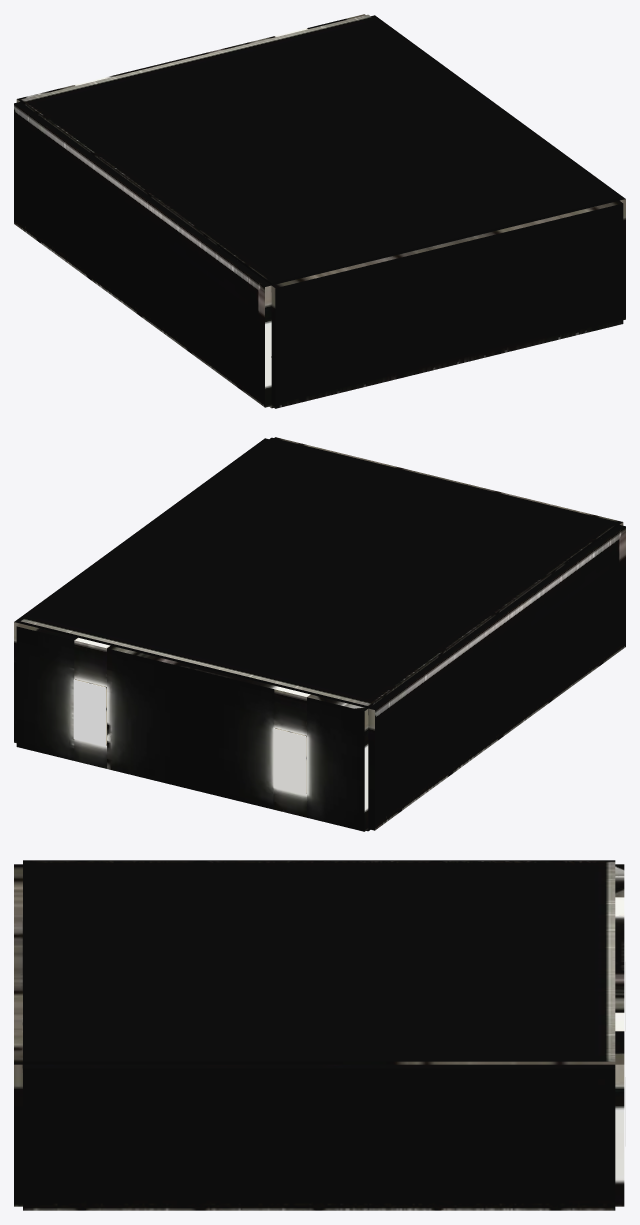
The model's file is einstein-trenton-courtroom-mobile.glb.
3 renders of one model, top to bottom at view 1: azimuth 30°, elevation 25°; view 2: azimuth 150°, elevation 25°; view 3: azimuth 270°, elevation 25°, orthographic. The views are drawn at different scales.
Visible parts, largest first — view 1: ceiling, walls; view 2: ceiling, walls, artifact_window_left, daylight_1; view 3: ceiling, walls.
Boxes of the visible parts, left/top/right/bottom form: ceiling: left=20, top=14, right=619, bottom=285; walls: left=14, top=14, right=625, bottom=408; ceiling: left=20, top=437, right=619, bottom=708; walls: left=14, top=437, right=625, bottom=831; artifact_window_left: left=273, top=728, right=306, bottom=795; daylight_1: left=73, top=679, right=106, bottom=746; ceiling: left=23, top=861, right=615, bottom=1064; walls: left=14, top=860, right=624, bottom=1210.
Bounding box in the file's own units: 16.6 × 5.5 × 20.66.
5 materials, 3 textured.
